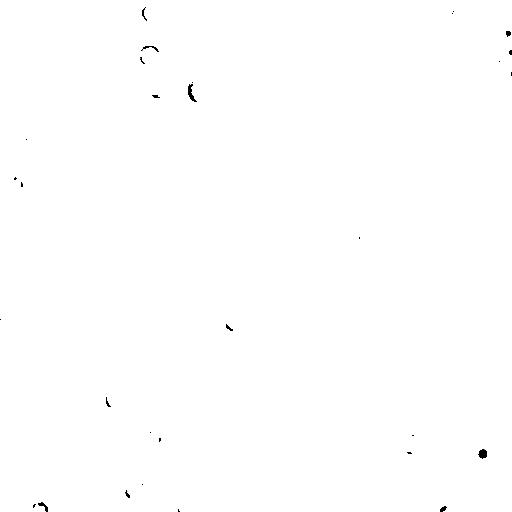micro-algae: (465, 375, 511, 463), (452, 357, 506, 415), (439, 45, 489, 97), (302, 333, 351, 384), (458, 435, 496, 467), (19, 301, 50, 340), (15, 27, 47, 57), (186, 33, 217, 63), (379, 159, 408, 189), (259, 164, 287, 195), (365, 325, 397, 351), (425, 490, 462, 512), (426, 0, 461, 23), (122, 77, 149, 106), (74, 315, 102, 342), (87, 364, 115, 389), (241, 62, 264, 92), (189, 76, 213, 104), (269, 316, 298, 339), (252, 352, 276, 379), (137, 44, 161, 69), (167, 73, 188, 101), (397, 432, 422, 455), (93, 49, 120, 70), (493, 17, 512, 45), (497, 54, 512, 89), (56, 202, 80, 223), (126, 479, 147, 503), (19, 449, 41, 471), (199, 375, 219, 399), (225, 307, 247, 328), (261, 283, 283, 304), (141, 3, 161, 25), (143, 426, 163, 448), (167, 0, 191, 17), (359, 226, 378, 247), (175, 495, 199, 511), (206, 139, 227, 157), (105, 389, 123, 409), (28, 498, 51, 512), (186, 335, 200, 358), (133, 305, 149, 325), (499, 39, 511, 63), (8, 131, 28, 145), (11, 175, 24, 192)
